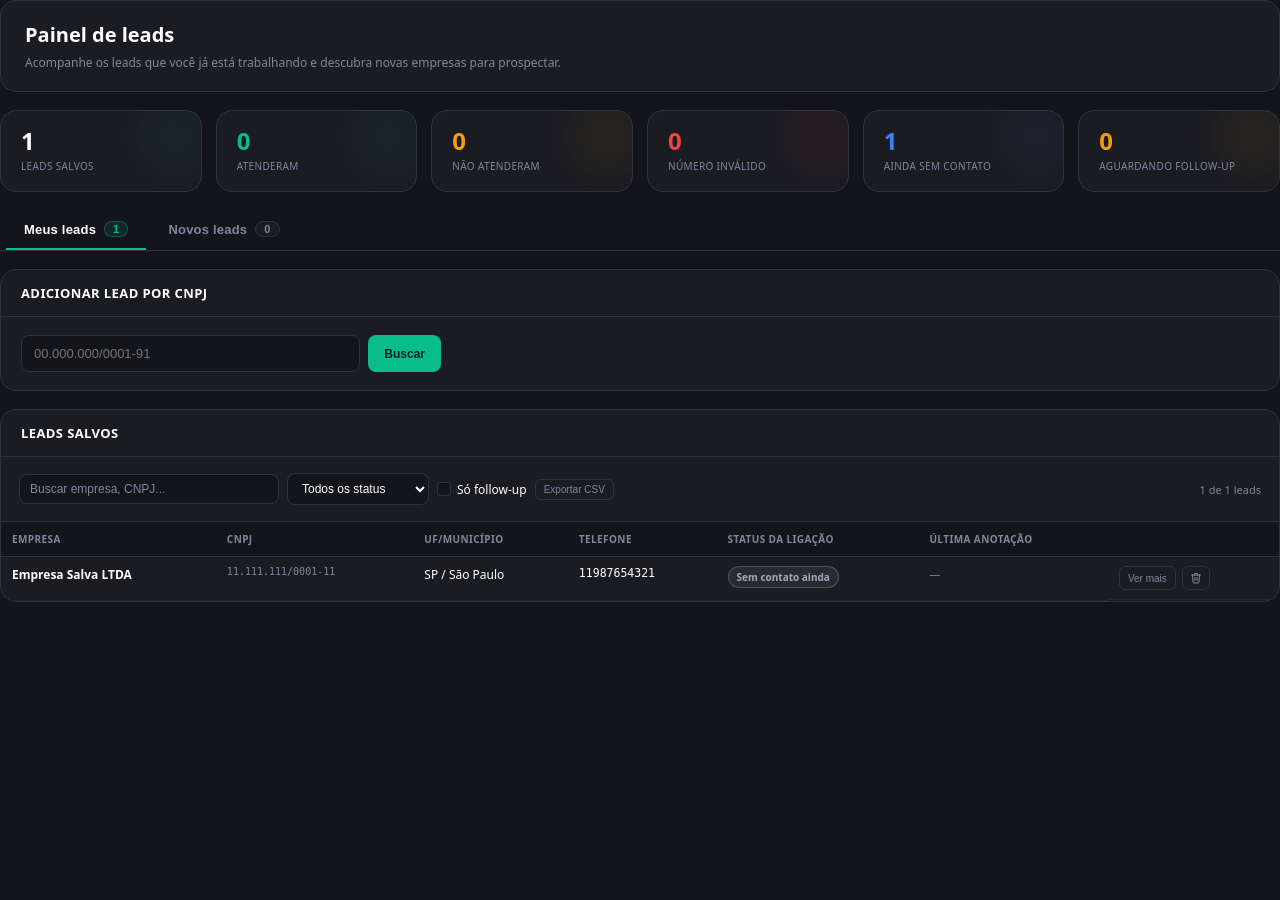
Test: LeadsPage › excluir lead remove da lista de leads salvos
expect the text "Empresa Salva LTDA" is shown: met, box 12,566 -> 132,583
Click the button named "Excluir lead" at (1196, 578), box 1182,566 -> 1210,590
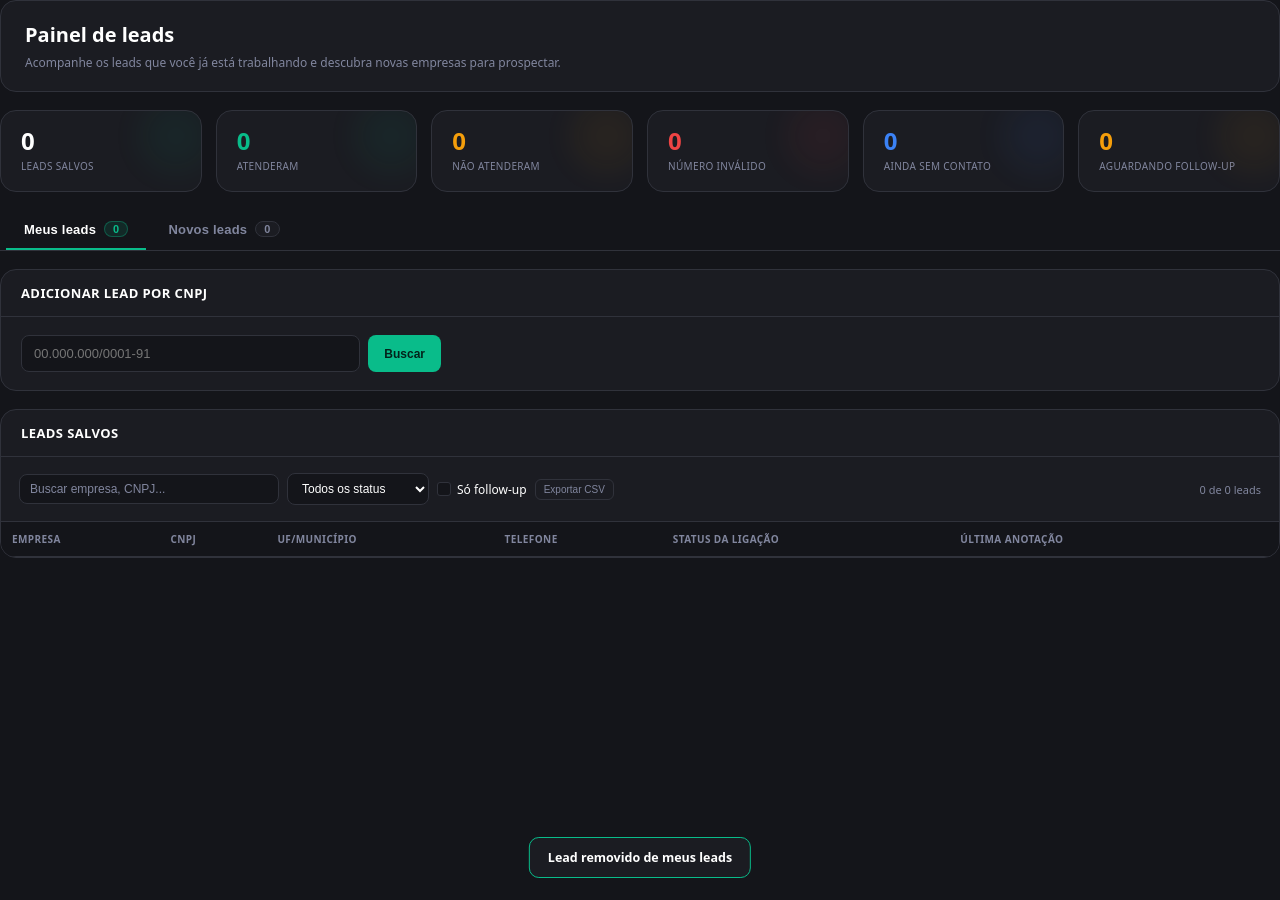
expect the text "Empresa Salva LTDA" is gone: met
